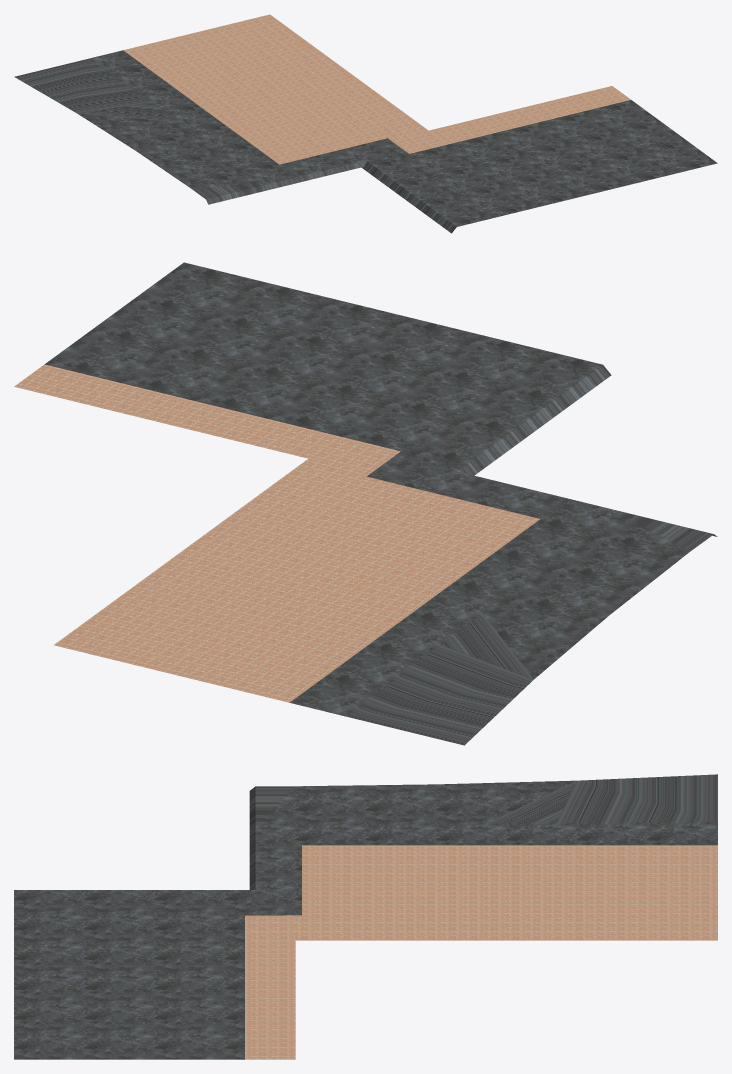
Rendered from groundbit_48_sfs.obj.
3 renders of one model, top to bottom at view 1: azimuth 30°, elevation 25°; view 2: azimuth 150°, elevation 25°; view 3: azimuth 270°, elevation 25°, orthographic. The views are drawn at different scales.
Visible parts, largest first — view 1: groundbit_48_SFS; view 2: groundbit_48_SFS; view 3: groundbit_48_SFS.
Boxes of the visible parts, x1,y1,x2,y2 form: groundbit_48_SFS: (14, 14, 717, 233); groundbit_48_SFS: (14, 262, 717, 745); groundbit_48_SFS: (14, 774, 717, 1059).
Bounding box in the file's own units: 95.86 × 1.1 × 100.
2 materials, 2 textured.
